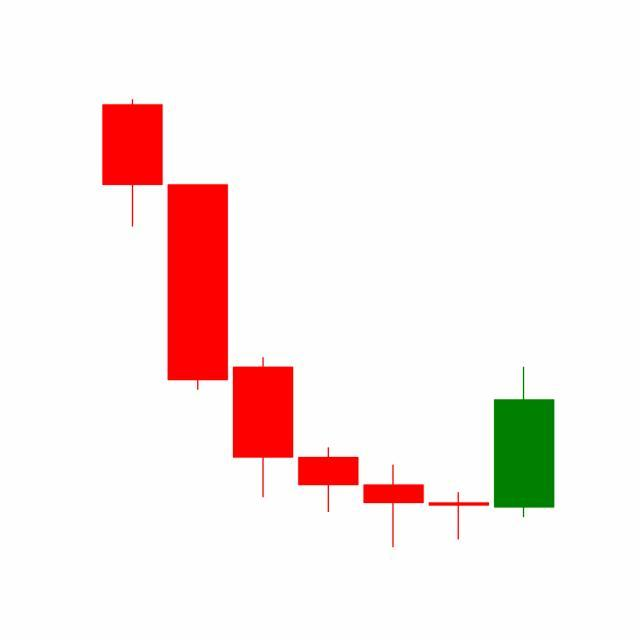Three Line Strike: (294, 364, 555, 549)
